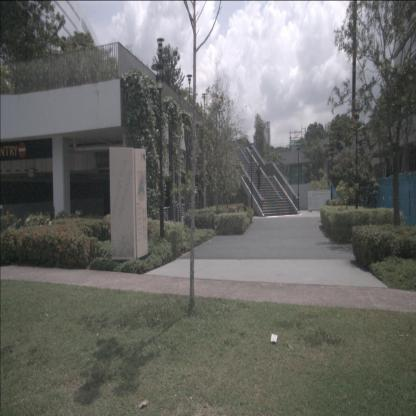human-pedestrian-adult: (255, 164, 262, 193)
